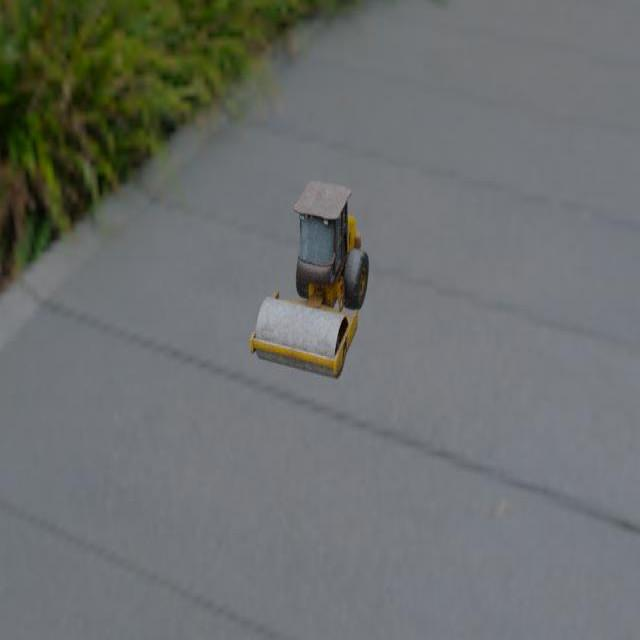Roller: (249, 180, 369, 379)
